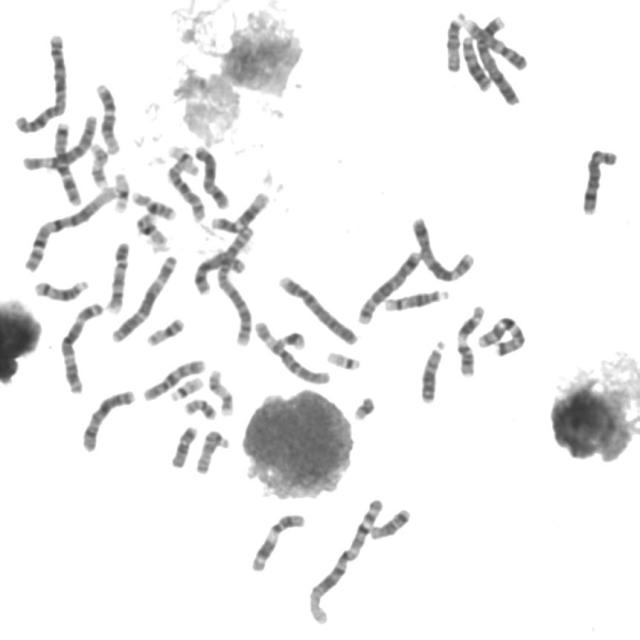A1: (304, 493, 387, 627), (20, 182, 121, 273)
A2: (10, 29, 70, 135), (212, 221, 258, 347)
A3: (108, 250, 180, 344), (56, 297, 105, 395)
B4: (274, 271, 360, 346), (468, 11, 521, 108)
B5: (354, 246, 424, 326), (408, 213, 477, 283)
C10: (139, 354, 208, 404), (163, 156, 208, 223)
C11: (247, 508, 307, 574), (453, 300, 488, 378)
C12: (208, 188, 272, 234), (92, 79, 122, 155)
C6: (250, 316, 333, 387), (18, 110, 100, 172)
C7: (50, 116, 83, 206), (474, 312, 528, 358)
C8: (577, 145, 620, 217), (191, 248, 250, 296)
C9: (459, 12, 529, 72), (103, 237, 132, 315)
D13: (417, 335, 448, 405), (458, 33, 494, 92)
D14: (380, 284, 451, 312), (30, 275, 90, 302)
D15: (191, 426, 231, 476), (442, 8, 467, 74)
E16: (127, 186, 178, 222), (133, 209, 171, 252)
E17: (205, 365, 236, 418), (85, 139, 111, 190)
E18: (366, 504, 412, 542), (167, 422, 199, 470)
F19: (164, 140, 202, 177), (109, 168, 132, 214)
F20: (142, 313, 187, 348), (180, 394, 219, 421)
G21: (273, 326, 307, 352), (350, 392, 377, 422)
G22: (166, 372, 205, 402), (322, 347, 363, 372)
X: (77, 385, 137, 454), (190, 141, 232, 211)
